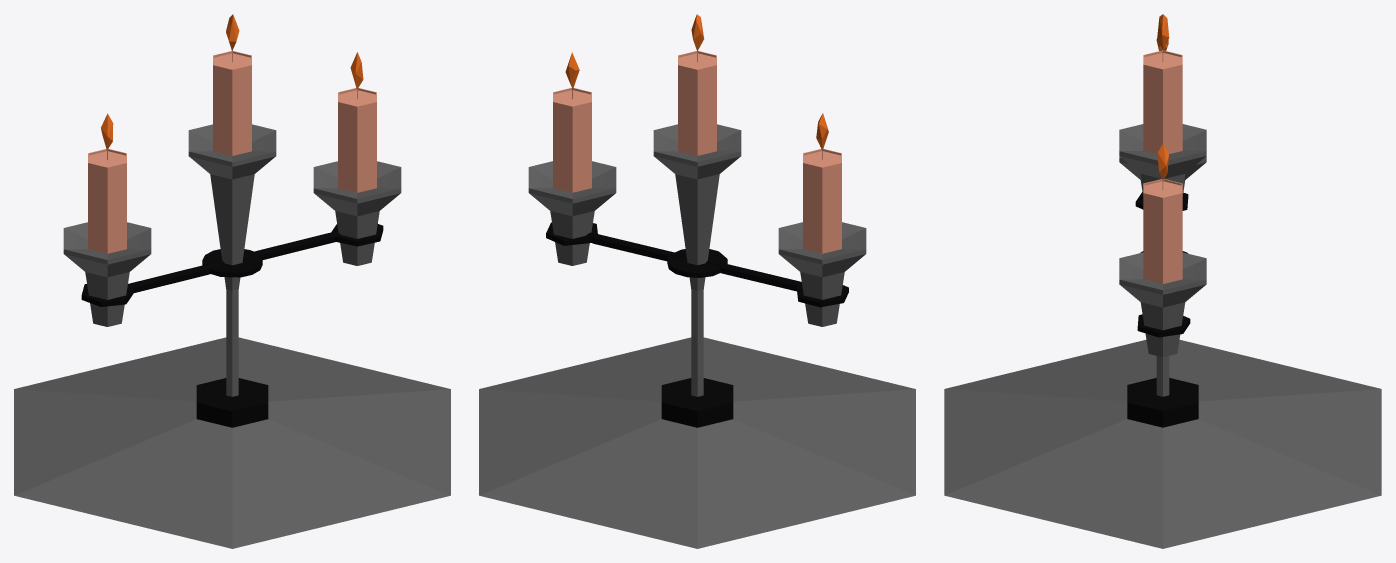
Rendered from Candle_03.fbx.
3 views of the same model, side by side, from view 1: azimuth 30°, elevation 25°; view 2: azimuth 150°, elevation 25°; view 3: azimuth 270°, elevation 25° (orthographic).
Parts seen in each view (by area): view 1: Candle_03; view 2: Candle_03; view 3: Candle_03.
Boxes of the visible parts, x1,y1,x2,y2 form: Candle_03: [14, 14, 450, 548]; Candle_03: [479, 14, 915, 548]; Candle_03: [944, 14, 1381, 548].
Bounding box in the file's own units: 53.21 × 49.84 × 46.08.
